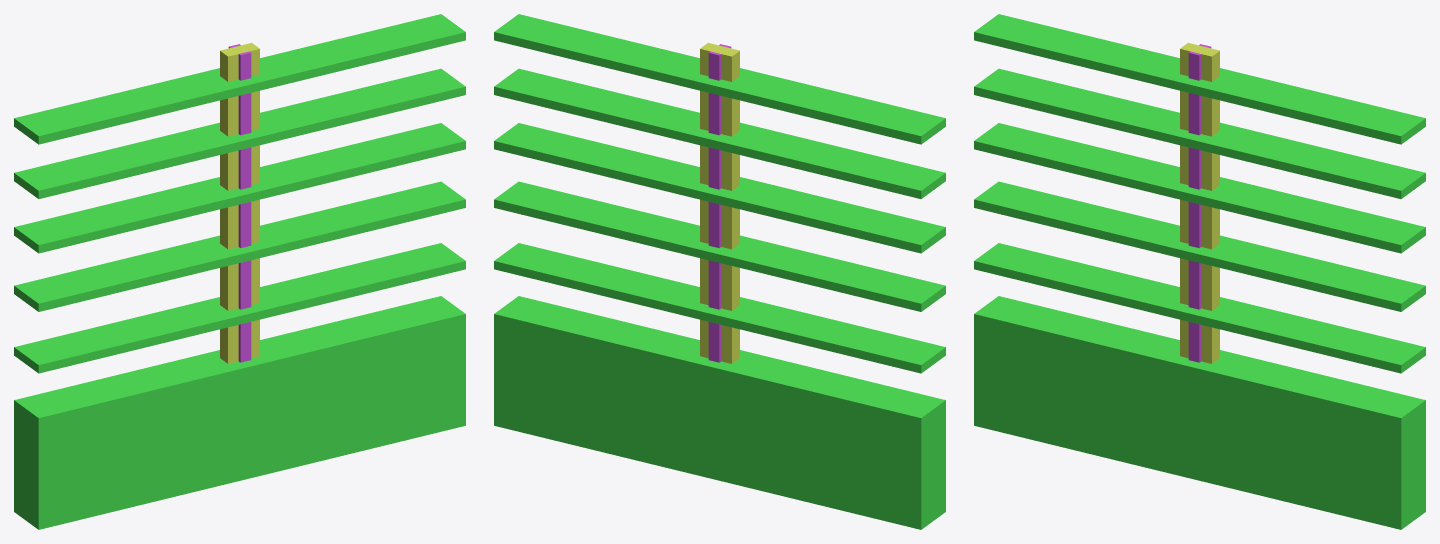
File: Partition_Wall_01_A.fbx
3 renders of one model, left to right at view 1: azimuth 30°, elevation 25°; view 2: azimuth 150°, elevation 25°; view 3: azimuth 330°, elevation 25°, orthographic.
Visible parts, largest first — view 1: Partition_Wall_01_A; view 2: Partition_Wall_01_A; view 3: Partition_Wall_01_A.
Part boxes in pixels (<box>): Partition_Wall_01_A: <box>14,14,465,529</box>; Partition_Wall_01_A: <box>494,14,945,529</box>; Partition_Wall_01_A: <box>974,14,1425,529</box>.
Bounding box in the file's own units: 91.44 × 85.72 × 9.14.
